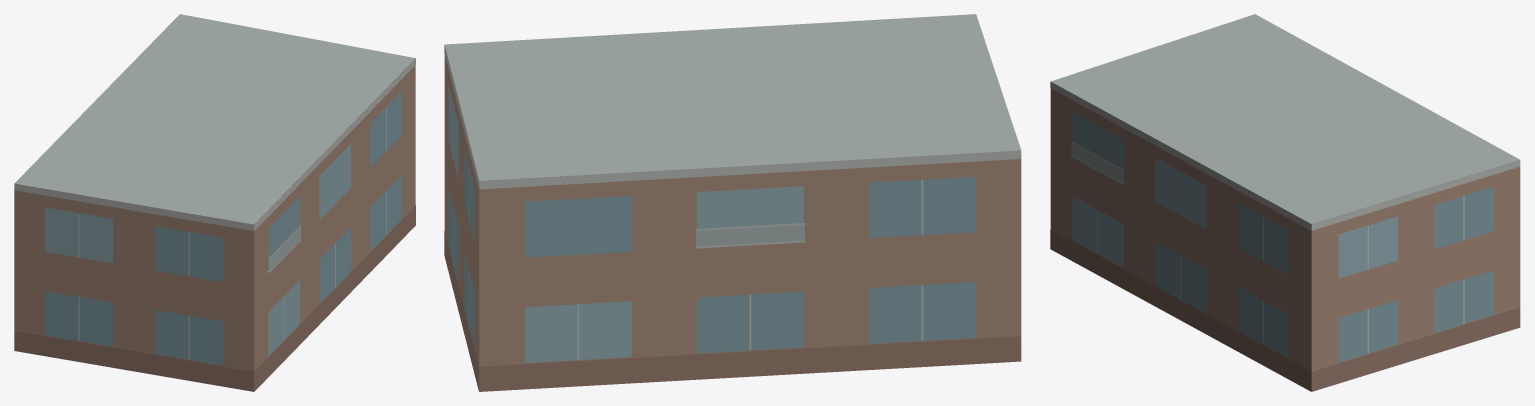
File: survey-upis-32635949.glb
The picture shows the model from 3 angles, left to right: view 1: azimuth 30°, elevation 25°; view 2: azimuth 150°, elevation 25°; view 3: azimuth 270°, elevation 25°; orthographic projection. The views are drawn at different scales.
Parts seen in each view (by area): view 1: survey-upis-32635949.tmp; view 2: survey-upis-32635949.tmp; view 3: survey-upis-32635949.tmp.
Part boxes in pixels (x1,y1,x2,y2): survey-upis-32635949.tmp: (14,14,415,391); survey-upis-32635949.tmp: (444,14,1021,391); survey-upis-32635949.tmp: (1050,14,1520,391).
Bounding box in the file's own units: 16.4 × 6.1 × 15.49.
